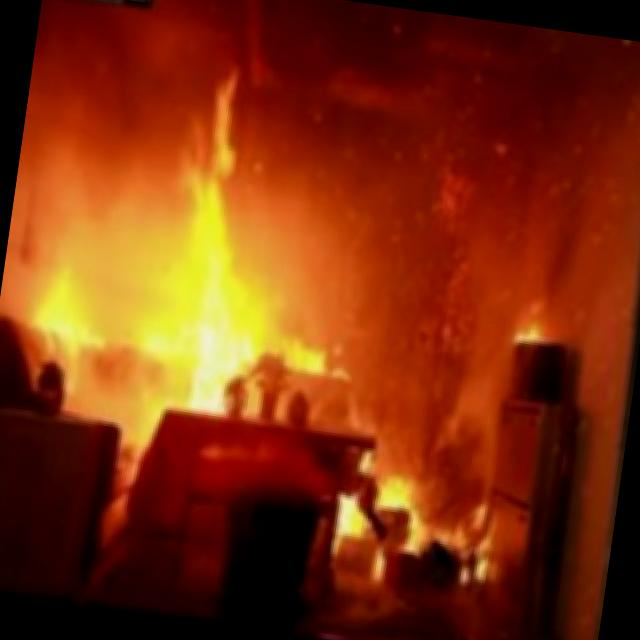fire: (0, 25, 431, 474)
